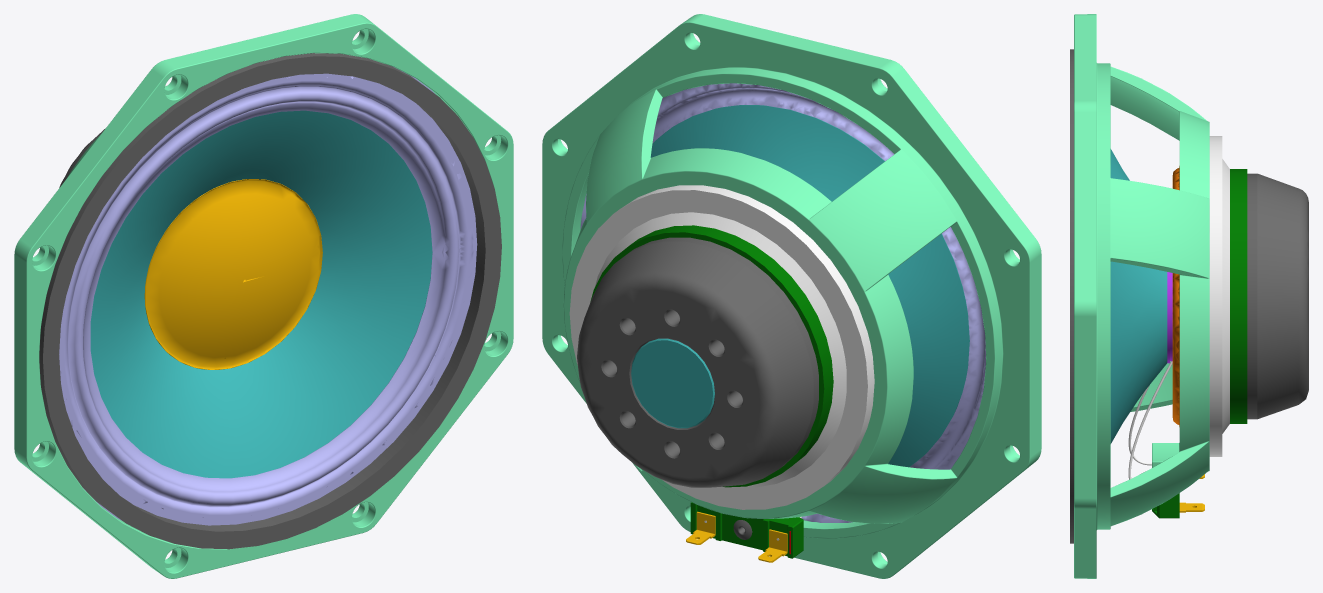
Rendered from BC_8MDN51.glb.
3 renders of one model, left to right at view 1: azimuth 30°, elevation 25°; view 2: azimuth 150°, elevation 25°; view 3: azimuth 270°, elevation 25°, orthographic. The views are drawn at different scales.
Visible parts, largest first — view 1: =>[0:1:1:3]; view 2: =>[0:1:1:3]; view 3: =>[0:1:1:3].
Part boxes in pixels (bbox=[...]): =>[0:1:1:3]: bbox=[14, 14, 513, 578]; =>[0:1:1:3]: bbox=[542, 14, 1041, 578]; =>[0:1:1:3]: bbox=[1070, 14, 1308, 578].
Bounding box in the file's own units: 0.2094 × 0.2094 × 0.0951.
